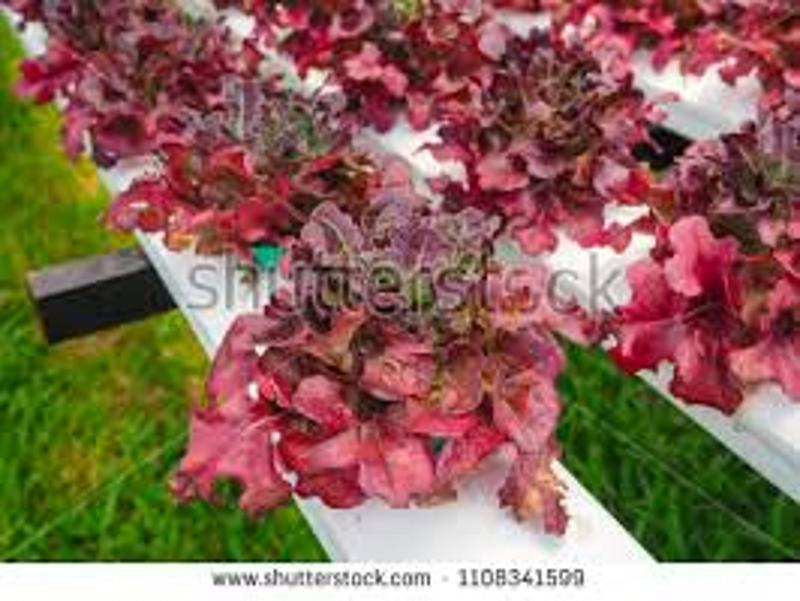red lettuce: (221, 187, 593, 536), (146, 83, 408, 260), (643, 131, 800, 414), (446, 45, 663, 240), (92, 22, 257, 148)
